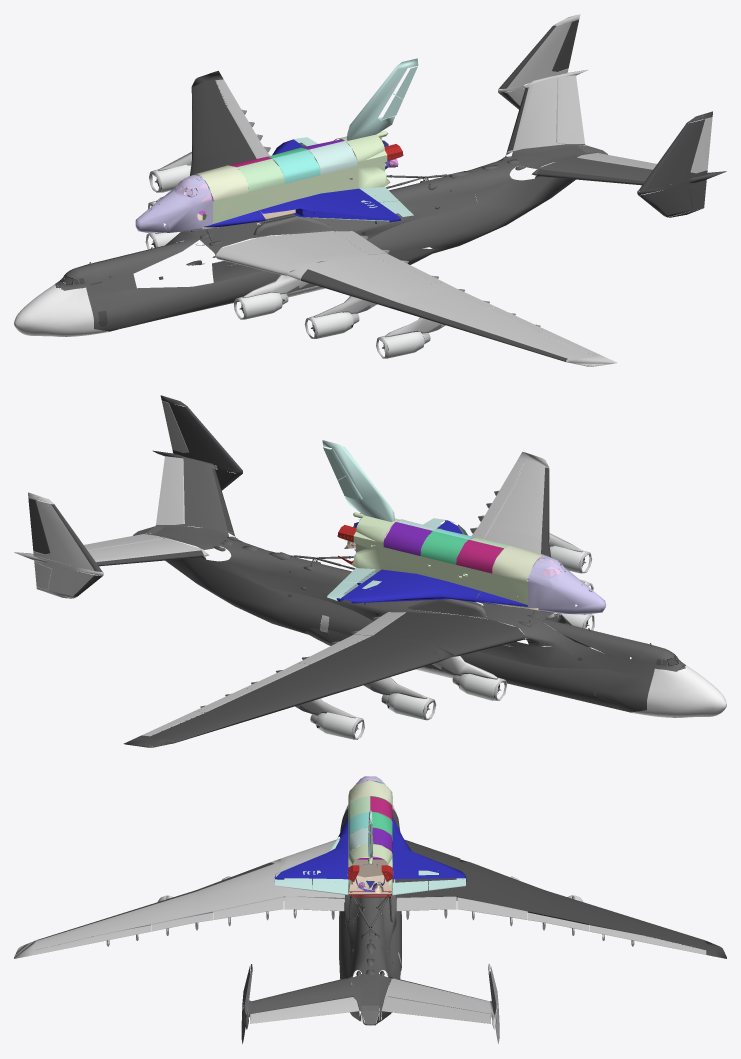
The model's file is far-v1.glb.
The picture shows the model from 3 angles, top to bottom: view 1: azimuth 30°, elevation 25°; view 2: azimuth 150°, elevation 25°; view 3: azimuth 270°, elevation 25°; orthographic projection. The views are drawn at different scales.
Parts seen in each view (by area): view 1: ___, _____________; view 2: ___, _____________; view 3: ___, _____________.
Boxes of the visible parts, left/top/right/bottom form: ___: left=14, top=14, right=726, bottom=366; _____________: left=88, top=67, right=703, bottom=366; ___: left=14, top=395, right=726, bottom=747; _____________: left=37, top=448, right=652, bottom=747; ___: left=14, top=776, right=726, bottom=1043; _____________: left=19, top=776, right=721, bottom=1025.
Size of the model in its own units: 82.13 by 24.12 by 88.31.
5 materials, 5 textured.
